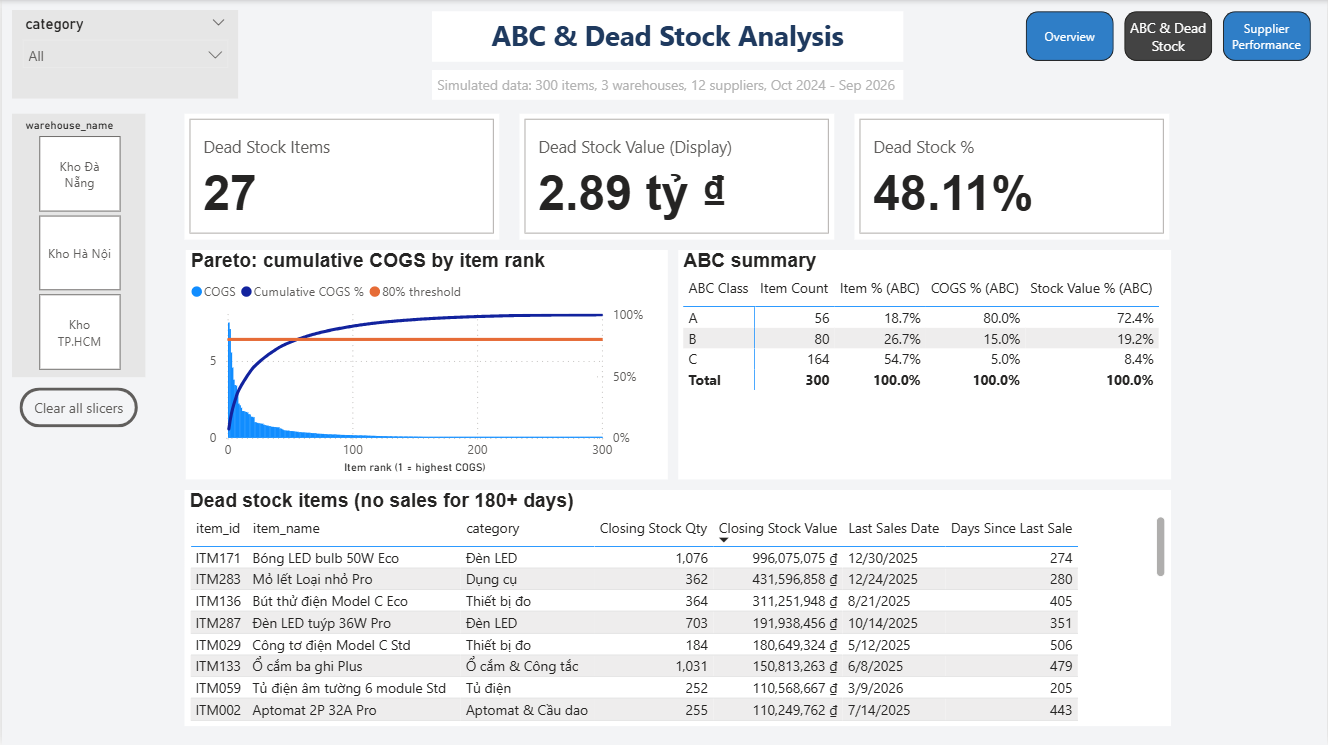

This screenshot's page, from the dashboard's own definition file:
{"tool":"powerbi","page":{"name":"ABC & Dead Stock","canvas":[1280,720],"ordinal":1},"visuals":[{"type":"textbox","box":[415.7,10.4,455.1,48.5],"z":0},{"type":"textbox","box":[415.7,68.1,455.1,28.9],"z":1000},{"type":"slicer","fields":{"Values":["Dim_Item.category"]},"box":[10,10,218.6,85.7],"z":2000},{"type":"slicer","fields":{"Values":["Dim_Warehouse.warehouse_name"]},"box":[10,110,128.6,254.3],"z":3000},{"type":"cardVisual","fields":{"Data":["_Measures.Dead Stock Items"]},"box":[175.9,109.3,304.3,121.4],"z":4000},{"type":"cardVisual","fields":{"Data":["_Measures.Dead Stock Value (Display)"]},"box":[499.4,109.3,304.3,121.4],"z":5000},{"type":"cardVisual","fields":{"Data":["_Measures.Dead Stock %"]},"box":[823,109.3,304.3,121.4],"z":6000},{"type":"lineClusteredColumnComboChart","title":"Pareto: cumulative COGS by item rank","fields":{"Y2":["Max(Dim_Item.ABC Cum %)","_Measures.ABC 80% Line"],"Category":["Dim_Item.ABC Rank"],"Y":["_Measures.COGS (tỷ)"]},"box":[177.7,241.1,465.7,221.4],"z":7000},{"type":"pivotTable","title":"ABC summary","fields":{"Rows":["Dim_Item.ABC Class"],"Values":["_Measures.Item Count","_Measures.Item % (ABC)","_Measures.COGS % (ABC)","_Measures.Stock Value % (ABC)"]},"box":[652.5,241.7,476.2,221.2],"z":8000},{"type":"tableEx","title":"Dead stock items (no sales for 180+ days)","fields":{"Values":["Dim_Item.item_id","Dim_Item.item_name","Dim_Item.category","_Measures.Closing Stock Qty","_Measures.Closing Stock Value","_Measures.Last Sales Date","_Measures.Days Since Last Sale"]},"box":[176.3,473.2,952.5,228.2],"z":9000},{"type":"pageNavigator","box":[988.6,11.4,275.7,48.6],"z":9001},{"type":"actionButton","box":[17.1,374.3,114.3,38.6],"z":9002}]}

Visuals, with their boxes in screenshot pixels (x1, y1, x2, y2), scaled from the page's 1280x720 canvas onto the 1328x745 screenshot:
textbox: (x1=431, y1=11, x2=903, y2=61)
textbox: (x1=431, y1=70, x2=903, y2=100)
slicer - Dim_Item.category: (x1=10, y1=10, x2=237, y2=99)
slicer - Dim_Warehouse.warehouse_name: (x1=10, y1=114, x2=144, y2=377)
cardVisual - _Measures.Dead Stock Items: (x1=182, y1=113, x2=498, y2=239)
cardVisual - _Measures.Dead Stock Value (Display): (x1=518, y1=113, x2=834, y2=239)
cardVisual - _Measures.Dead Stock %: (x1=854, y1=113, x2=1170, y2=239)
"Pareto: cumulative COGS by item rank" lineClusteredColumnComboChart: (x1=184, y1=249, x2=668, y2=479)
"ABC summary" pivotTable: (x1=677, y1=250, x2=1171, y2=479)
"Dead stock items (no sales for 180+ days)" tableEx: (x1=183, y1=490, x2=1171, y2=726)
pageNavigator: (x1=1026, y1=12, x2=1312, y2=62)
actionButton: (x1=18, y1=387, x2=136, y2=427)
